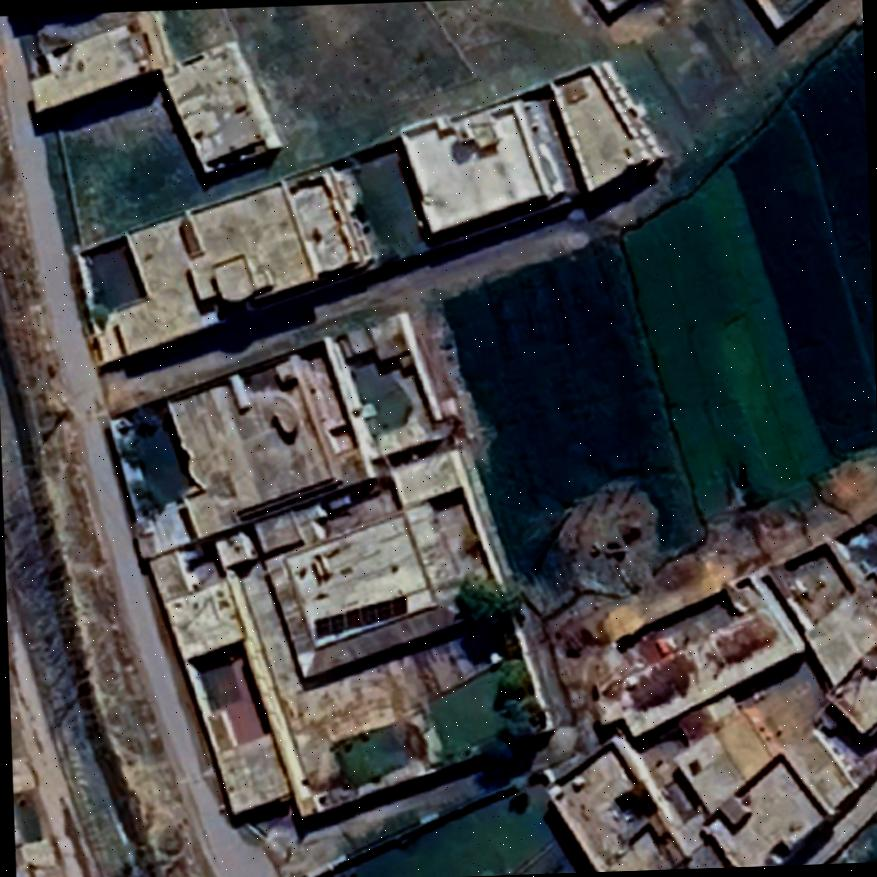Solarpanel: (304, 592, 406, 642)
